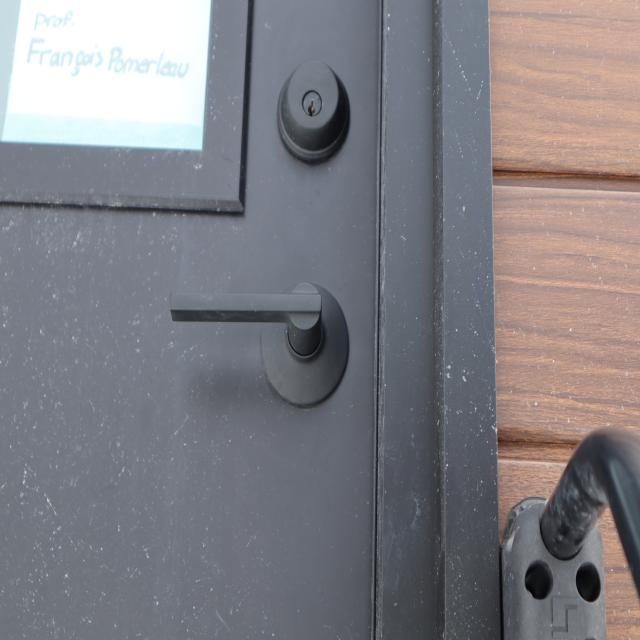door-handle: (170, 283, 349, 407)
